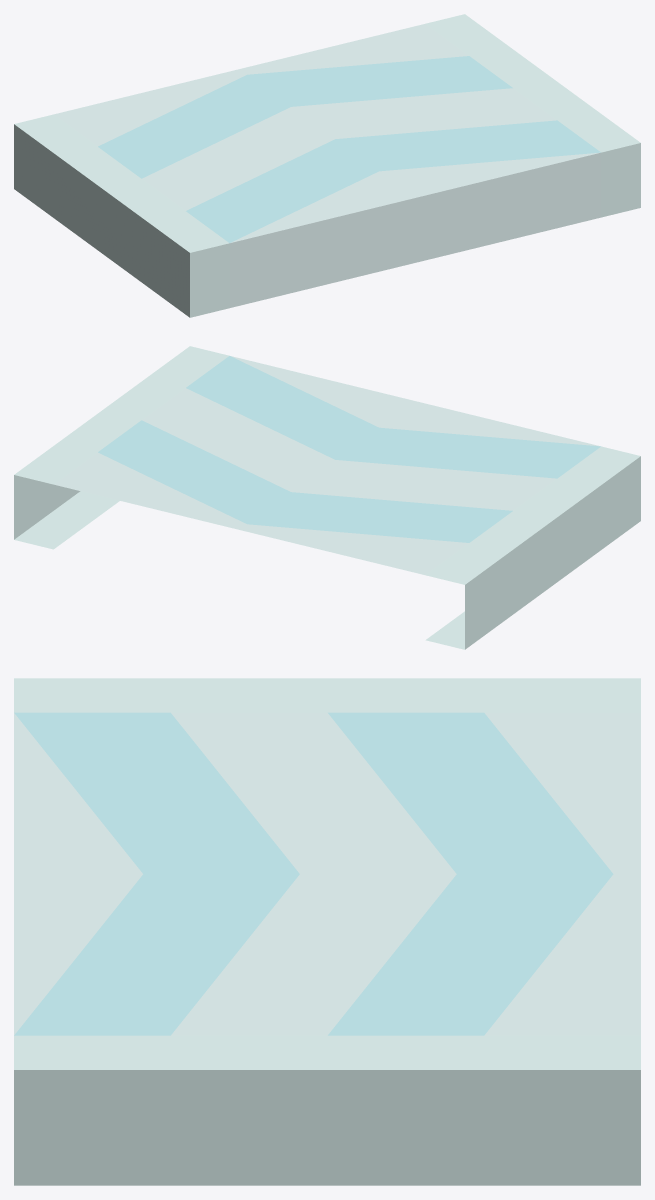
The model's file is zemin.fbx.
3 renders of one model, top to bottom at view 1: azimuth 30°, elevation 25°; view 2: azimuth 150°, elevation 25°; view 3: azimuth 270°, elevation 25°, orthographic. The views are drawn at different scales.
Visible parts, largest first — view 1: Cube.001; view 2: Cube.001; view 3: Cube.001.
Boxes of the visible parts, x1=… form: Cube.001: x1=14, y1=14, x2=640, y2=317; Cube.001: x1=14, y1=346, x2=640, y2=649; Cube.001: x1=14, y1=678, x2=640, y2=1185.
Size of the model in its own units: 240 by 33.03 by 162.
